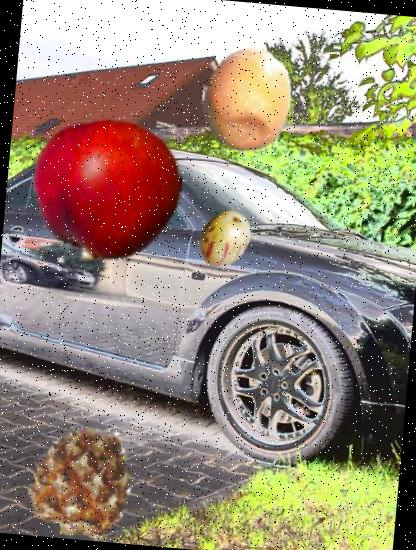Kumquats: (191, 43, 306, 158)
Nectarine: (27, 110, 188, 271)
Pepino: (192, 207, 258, 272)
Pineapple: (17, 416, 145, 544)
